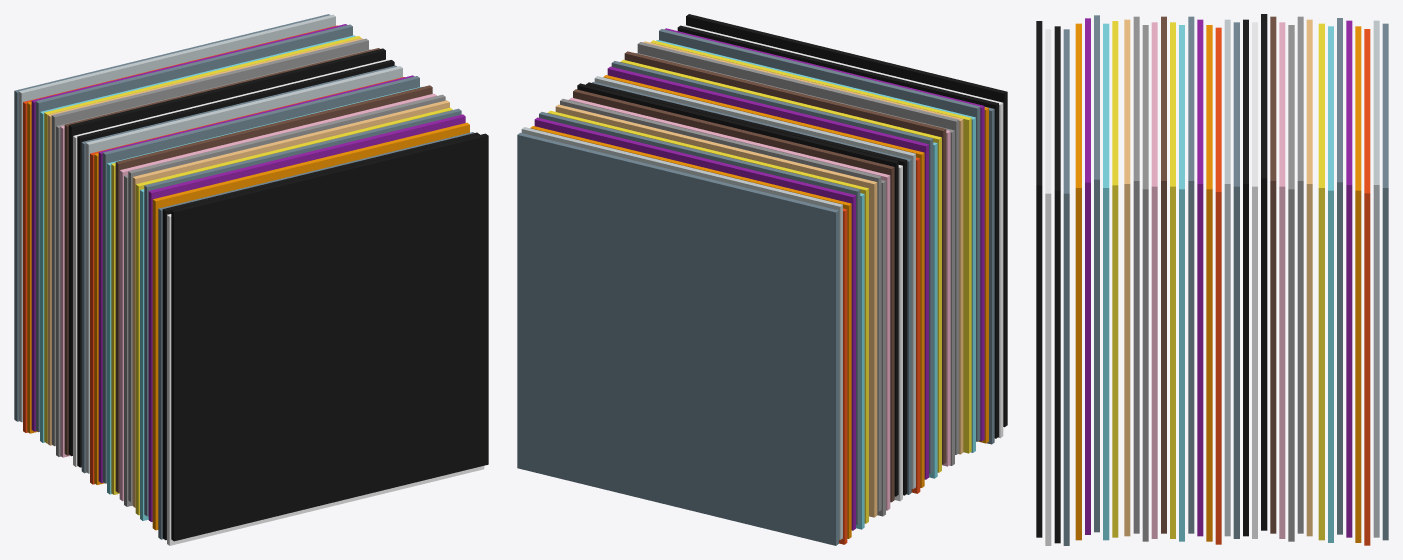
File: vinyl stack 2.glb
3 renders of one model, left to right at view 1: azimuth 30°, elevation 25°; view 2: azimuth 150°, elevation 25°; view 3: azimuth 270°, elevation 25°, orthographic. The views are drawn at different scales.
Visible parts, largest first — view 1: group628806985, group1156458666, group136270388, group1055868777, group361263711, group1832878797, group1160146034, group585026608, group1704534164, group1241777729, group836232659, group27739923 (+26 smaller); view 2: group1631106264, group2131944768, group889141102, group628806985, group1599080130, group1241777729, group1195811772, group8286267, group972405940, group92535811, group1160146034, group136270388 (+26 smaller); view 3: group1832878797, group972405940, group1195811772, group585026608, group1160146034, group1413882001, group889141102, group481526367, group1631106264, group2017584749, group2131944768, group8286267 (+26 smaller).
Boxes of the visible parts, bbox=[...] form: group628806985: bbox=[171, 133, 488, 541]; group1156458666: bbox=[152, 122, 469, 530]; group136270388: bbox=[35, 24, 352, 432]; group1055868777: bbox=[68, 48, 385, 456]; group361263711: bbox=[85, 66, 402, 473]; group1832878797: bbox=[18, 14, 335, 422]; group1160146034: bbox=[102, 76, 419, 483]; group585026608: bbox=[51, 38, 368, 446]; group1704534164: bbox=[148, 114, 465, 521]; group1241777729: bbox=[115, 85, 432, 492]; group836232659: bbox=[132, 100, 449, 507]; group27739923: bbox=[77, 60, 394, 467]; group1631106264: bbox=[517, 132, 838, 545]; group2131944768: bbox=[555, 104, 877, 517]; group889141102: bbox=[637, 42, 959, 454]; group628806985: bbox=[686, 14, 1007, 427]; group1599080130: bbox=[659, 29, 980, 441]; group1241777729: bbox=[624, 51, 946, 464]; group1195811772: bbox=[573, 89, 894, 502]; group8286267: bbox=[607, 66, 928, 479]; group972405940: bbox=[534, 117, 855, 530]; group92535811: bbox=[650, 40, 971, 453]; group1160146034: bbox=[611, 61, 933, 473]; group136270388: bbox=[539, 112, 860, 524]; group1832878797: bbox=[1373, 20, 1379, 537]; group972405940: bbox=[1346, 20, 1352, 537]; group1195811772: bbox=[1270, 16, 1276, 533]; group585026608: bbox=[1297, 16, 1303, 533]; group1160146034: bbox=[1188, 16, 1194, 533]; group1413882001: bbox=[1215, 27, 1221, 544]; group889141102: bbox=[1133, 16, 1139, 533]; group481526367: bbox=[1054, 26, 1060, 543]; group1631106264: bbox=[1382, 23, 1388, 540]; group2017584749: bbox=[1318, 23, 1324, 540]; group2131944768: bbox=[1306, 19, 1312, 536]; group8286267: bbox=[1197, 19, 1203, 536].
Bounding box in the file's own units: 1.3 × 1.34 × 1.16.
